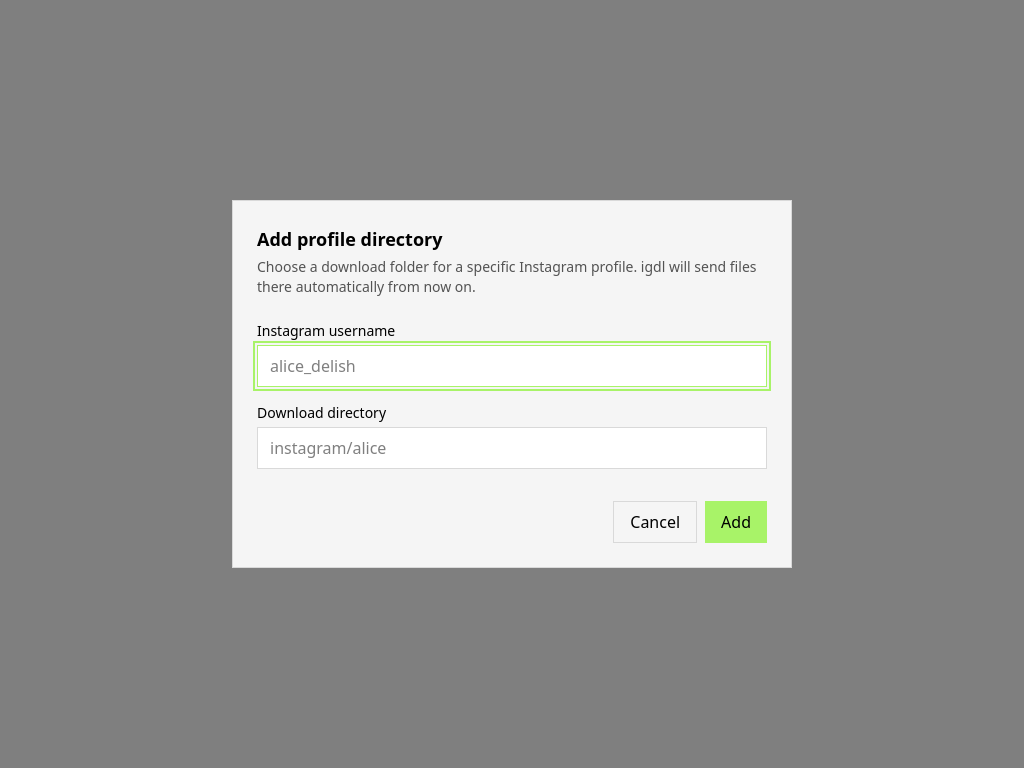
Test case: AddProfileModal › shows a validation error when username is empty
This screenshot has width=1024, height=768.
Click the button "Add".
click(736, 522)  # box [705,501,767,543]
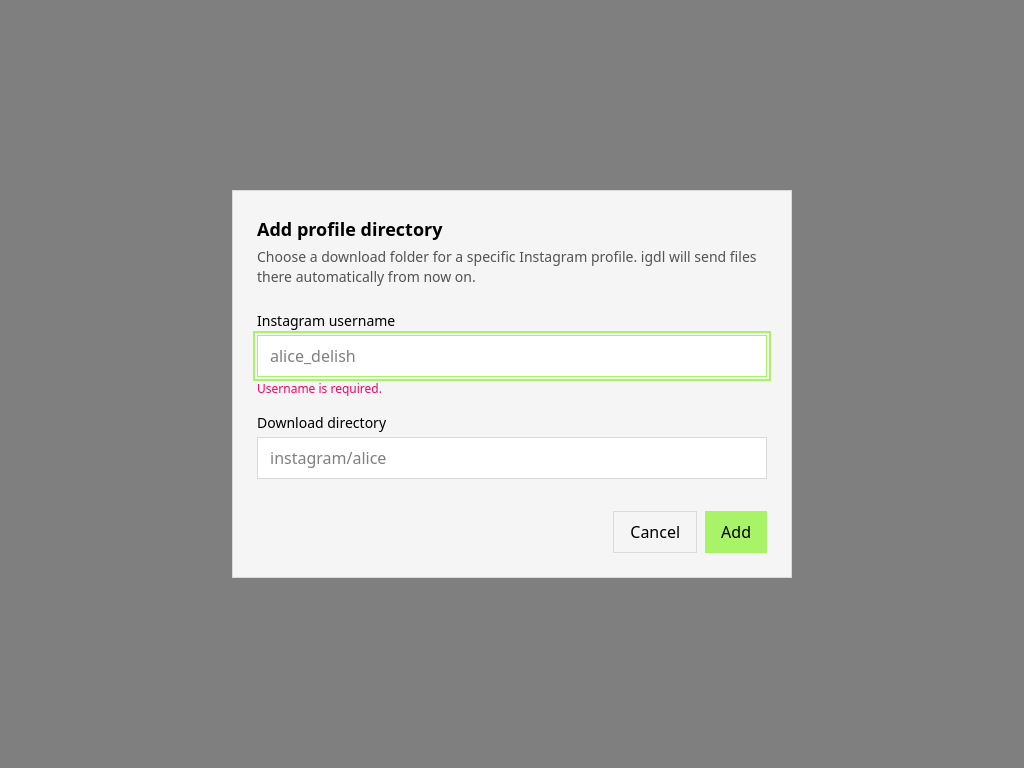
Result: the message shows "required" at [257,380,382,397]
